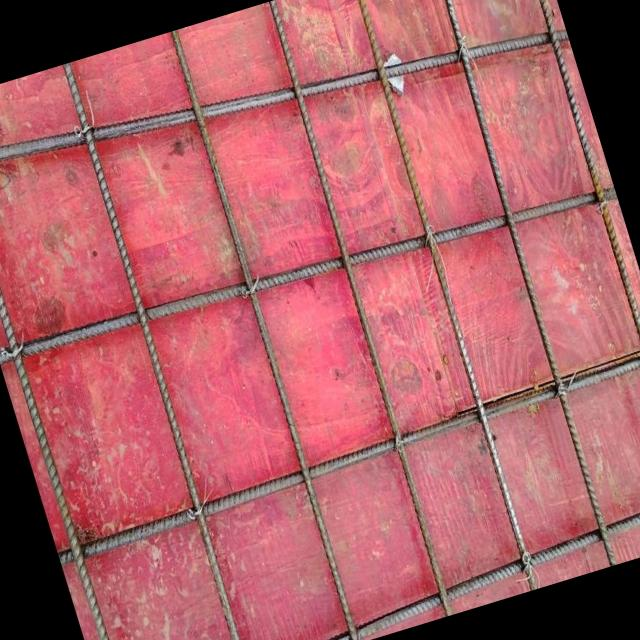ribbed bar: (0, 160, 618, 386), (0, 0, 569, 228), (51, 345, 640, 565), (257, 0, 463, 615), (165, 28, 365, 640), (339, 0, 545, 590), (54, 61, 258, 640), (420, 0, 624, 565), (0, 100, 132, 640), (510, 0, 640, 538), (242, 481, 640, 640)
